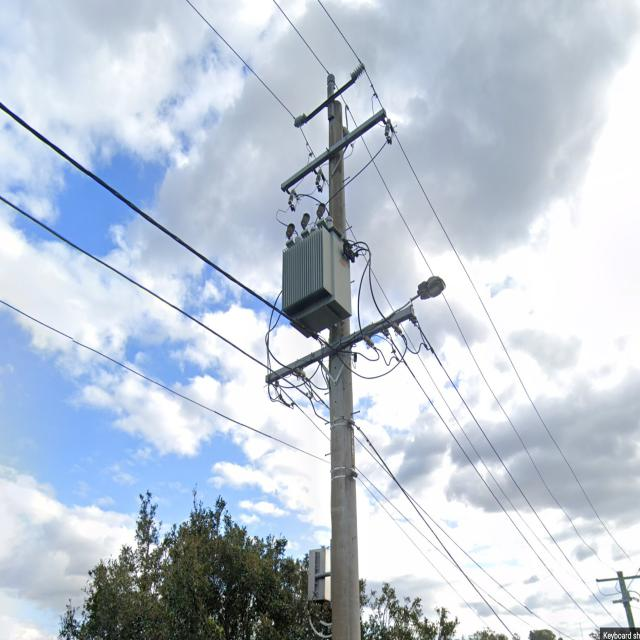HV-transmission: (280, 59, 393, 212)
LV link: (389, 320, 434, 354), (362, 334, 407, 364), (295, 368, 328, 390)
crossarm: (265, 305, 415, 383), (281, 107, 387, 192), (294, 65, 365, 129)
streetlight: (395, 274, 445, 314)
timber-pole: (326, 98, 362, 636)
transformer: (282, 208, 350, 342)
